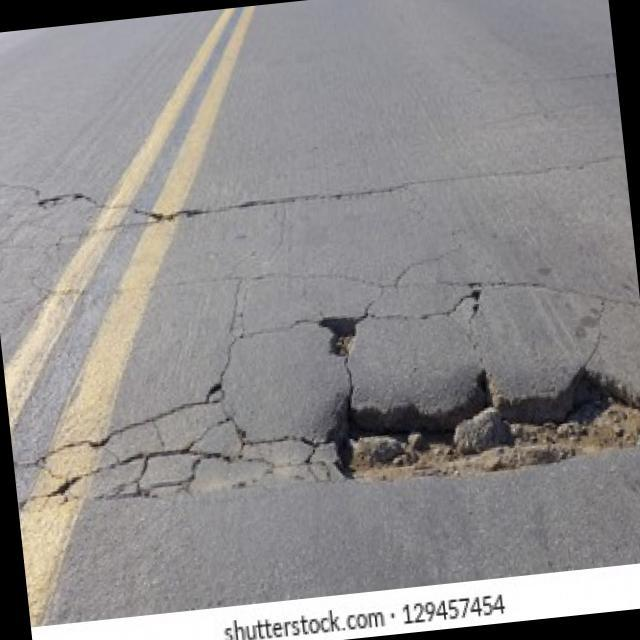Pothole: (322, 362, 640, 504), (318, 308, 370, 363)
